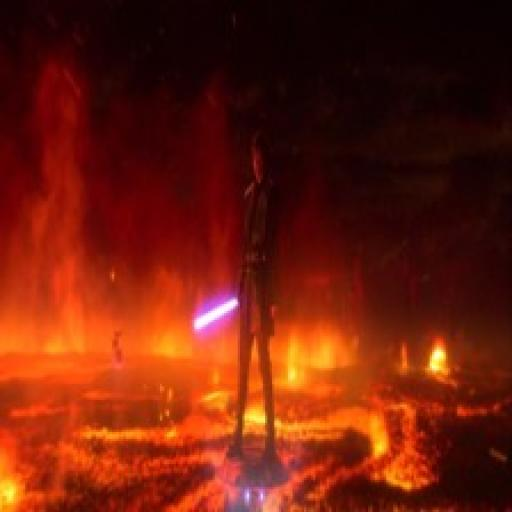human: (233, 138, 285, 467)
lightsaber: (187, 287, 245, 331)
